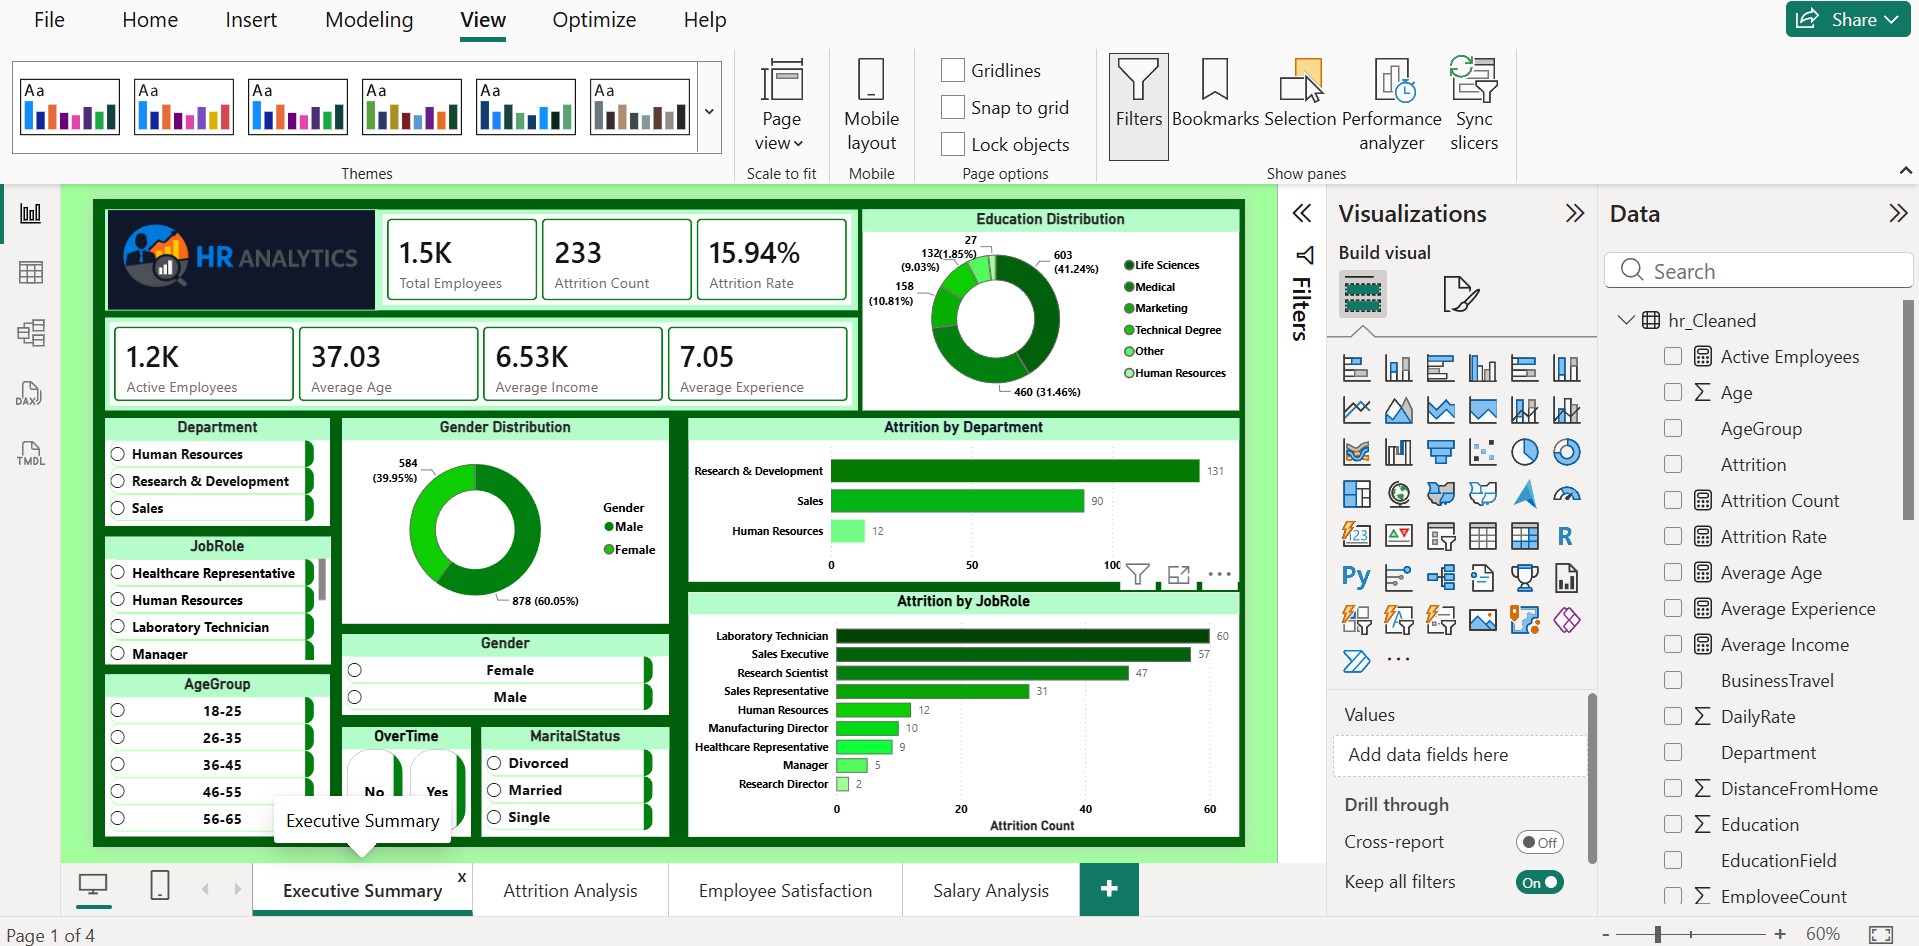

Layout of this report page (visuals, bound fields, positions):
{"tool":"powerbi","page":{"name":"Executive Summary","canvas":[1280,720],"ordinal":0},"visuals":[{"type":"cardVisual","fields":{"Data":["hr_Cleaned.Total Employees","hr_Cleaned.Attrition Count","hr_Cleaned.Attrition Rate"]},"box":[316,11.7,533.3,111.7],"z":0},{"type":"image","box":[13.3,11.7,303.3,111.7],"z":1000},{"type":"cardVisual","fields":{"Data":["hr_Cleaned.Active Employees","hr_Cleaned.Average Age","hr_Cleaned.Average Income","hr_Cleaned.Average Experience"]},"box":[13.3,131.7,836.7,103.3],"z":2000},{"type":"clusteredBarChart","title":"Attrition by Department","fields":{"Category":["hr_Cleaned.Department"],"Y":["hr_Cleaned.Attrition Count"]},"box":[661.7,243.3,611.7,181.7],"z":3000},{"type":"barChart","title":"Attrition by JobRole","fields":{"Category":["hr_Cleaned.JobRole"],"Y":["hr_Cleaned.Attrition Count"]},"box":[661.7,436.7,611.7,271.7],"z":4000},{"type":"donutChart","title":"Gender Distribution","fields":{"Category":["hr_Cleaned.Gender"],"Y":["Sum(hr_Cleaned.EmployeeCount)"]},"box":[276.7,243.3,363.3,228.3],"z":5000},{"type":"donutChart","title":"Education Distribution","fields":{"Category":["hr_Cleaned.EducationField"],"Y":["Sum(hr_Cleaned.EmployeeCount)"]},"box":[855,11.7,418.3,223.3],"z":6000},{"type":"listSlicer","fields":{"Values":["hr_Cleaned.Department"]},"box":[13.3,243.3,250,120],"z":7000},{"type":"listSlicer","fields":{"Values":["hr_Cleaned.JobRole"]},"box":[13.3,375,250,141.7],"z":8000},{"type":"listSlicer","fields":{"Values":["hr_Cleaned.AgeGroup"]},"box":[13.3,528.3,250,180],"z":9000},{"type":"listSlicer","fields":{"Values":["hr_Cleaned.Gender"]},"box":[276.7,483.3,363.3,90],"z":10000},{"type":"advancedSlicerVisual","fields":{"Values":["hr_Cleaned.OverTime"]},"box":[276.7,586.7,143.3,121.7],"z":11000},{"type":"listSlicer","fields":{"Values":["hr_Cleaned.MaritalStatus"]},"box":[431.7,586.7,208.3,121.7],"z":12000}]}

Visuals, with their boxes on the page's 1280x720 design canvas (x1, y1, x2, y2). These are canvas units, not pixel positions in the 1919x946 screenshot, which may show the page scaled, cropped or inside an application window:
cardVisual - hr_Cleaned.Total Employees x hr_Cleaned.Attrition Count: box(316, 12, 849, 123)
image: box(13, 12, 317, 123)
cardVisual - hr_Cleaned.Active Employees x hr_Cleaned.Average Age: box(13, 132, 850, 235)
"Attrition by Department" clusteredBarChart: box(662, 243, 1273, 425)
"Attrition by JobRole" barChart: box(662, 437, 1273, 708)
"Gender Distribution" donutChart: box(277, 243, 640, 472)
"Education Distribution" donutChart: box(855, 12, 1273, 235)
listSlicer - hr_Cleaned.Department: box(13, 243, 263, 363)
listSlicer - hr_Cleaned.JobRole: box(13, 375, 263, 517)
listSlicer - hr_Cleaned.AgeGroup: box(13, 528, 263, 708)
listSlicer - hr_Cleaned.Gender: box(277, 483, 640, 573)
advancedSlicerVisual - hr_Cleaned.OverTime: box(277, 587, 420, 708)
listSlicer - hr_Cleaned.MaritalStatus: box(432, 587, 640, 708)
